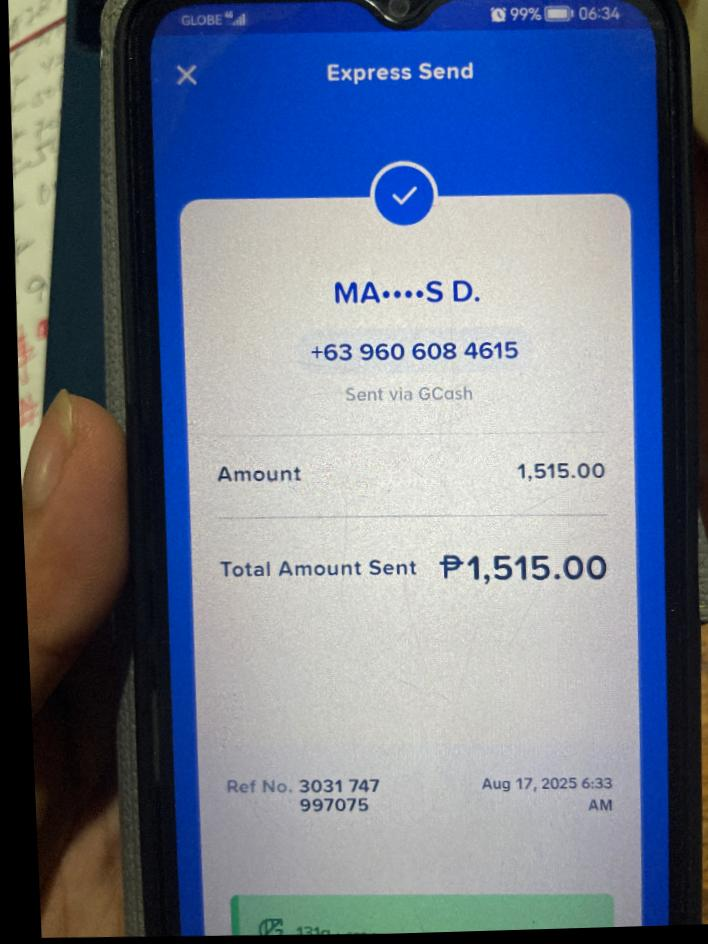Receipt: (153, 33, 671, 936)
